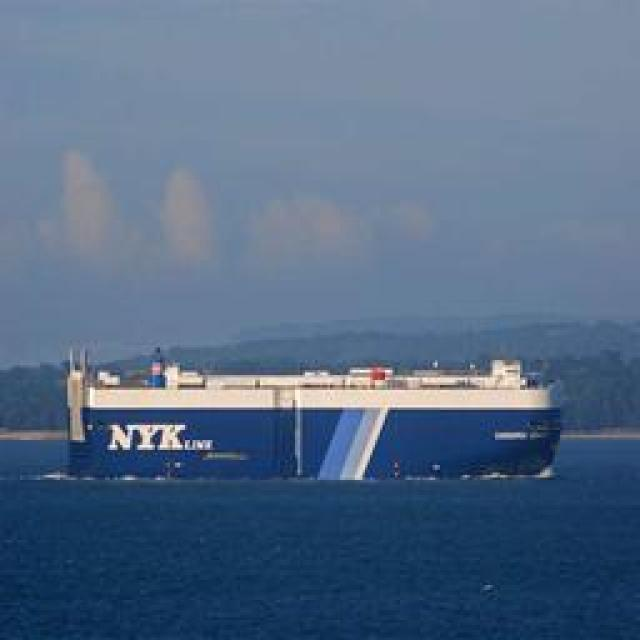ship2: (62, 362, 565, 483)
